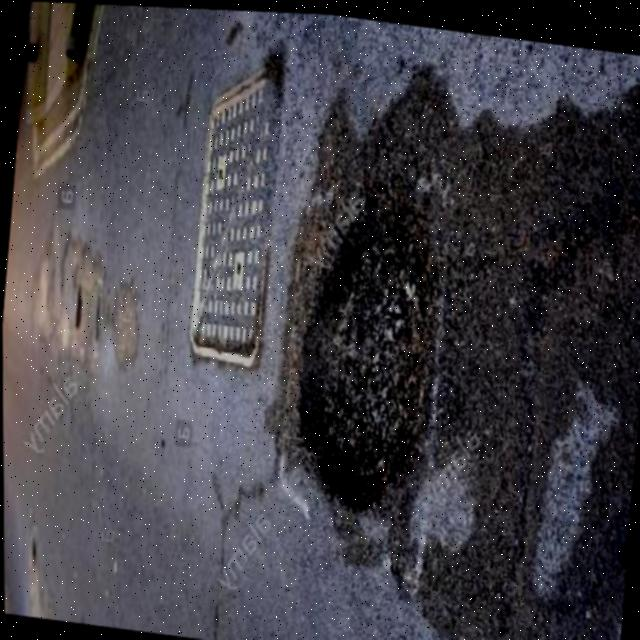Pothole: (276, 153, 454, 520), (68, 277, 83, 337)
